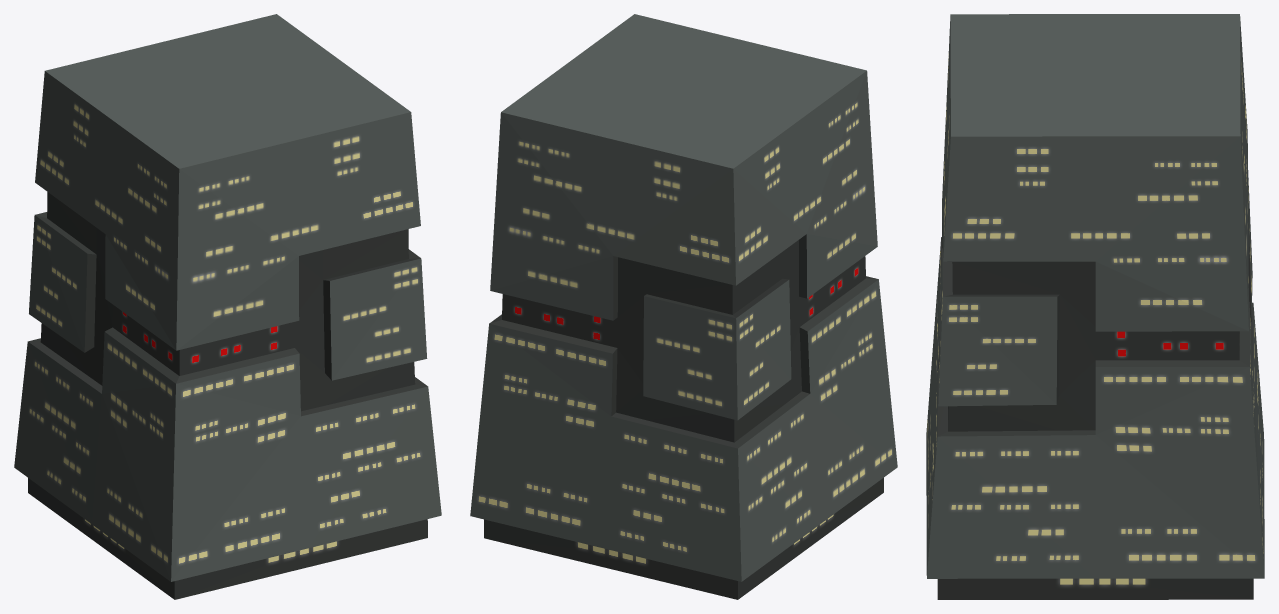
Rendered from cubeBuilding.obj.
3 views of the same model, side by side, from view 1: azimuth 30°, elevation 25°; view 2: azimuth 150°, elevation 25°; view 3: azimuth 270°, elevation 25° (orthographic). The views are drawn at different scales.
Parts seen in each view (by area): view 1: obj.cubeBuilding.000_Cube.001; view 2: obj.cubeBuilding.000_Cube.001; view 3: obj.cubeBuilding.000_Cube.001.
Part boxes in pixels (left/top/right/bottom): obj.cubeBuilding.000_Cube.001: left=14, top=14, right=441, bottom=599; obj.cubeBuilding.000_Cube.001: left=470, top=14, right=897, bottom=599; obj.cubeBuilding.000_Cube.001: left=926, top=14, right=1264, bottom=599.
Size of the model in its own units: 18.21 by 27.18 by 18.22.
